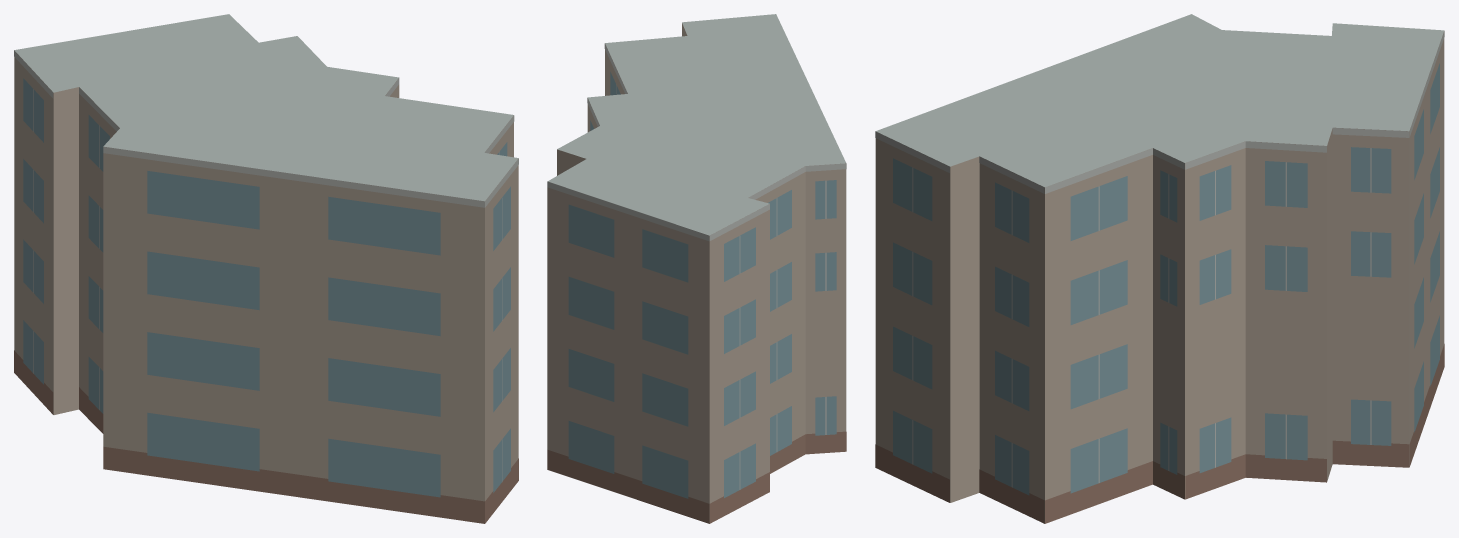
The model's file is survey-upis-32581493.glb.
3 renders of one model, left to right at view 1: azimuth 30°, elevation 25°; view 2: azimuth 150°, elevation 25°; view 3: azimuth 270°, elevation 25°, orthographic. The views are drawn at different scales.
Visible parts, largest first — view 1: survey-upis-32581493.tmp; view 2: survey-upis-32581493.tmp; view 3: survey-upis-32581493.tmp.
Part boxes in pixels (x1,y1,x2,y2): survey-upis-32581493.tmp: [14, 14, 518, 523]; survey-upis-32581493.tmp: [547, 14, 846, 523]; survey-upis-32581493.tmp: [875, 14, 1444, 523].
Size of the model in its own units: 13.38 by 12.1 by 18.55.
